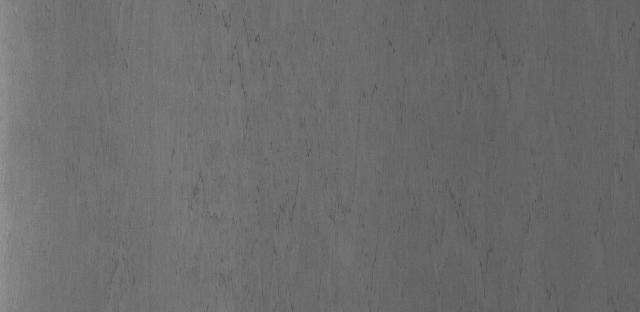silk_spot: (158, 34, 524, 285)
